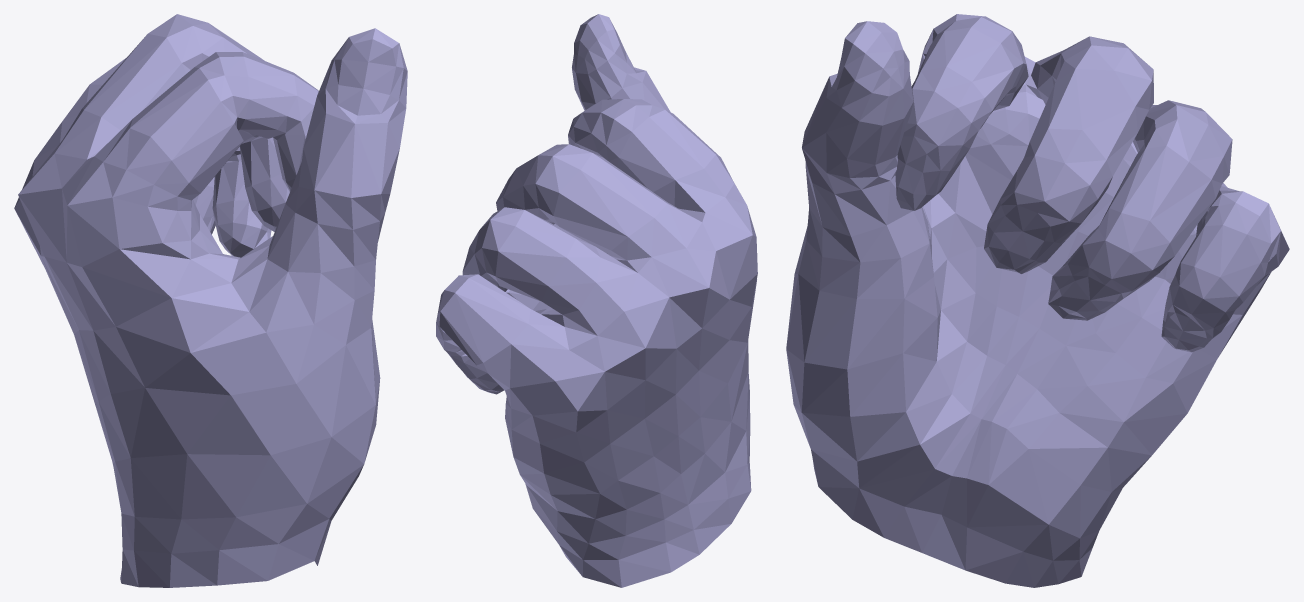
Rendered from frame_0057_source_000057_hand.glb.
3 views of the same model, side by side, from view 1: azimuth 30°, elevation 25°; view 2: azimuth 150°, elevation 25°; view 3: azimuth 270°, elevation 25° (orthographic). The views are drawn at different scales.
Visible parts, largest first — view 1: world; view 2: world; view 3: world.
Part boxes in pixels (x1,y1,x2,y2): world: (14,14,407,587); world: (436,14,757,587); world: (786,14,1289,587).
Bounding box in the file's own units: 0.0613 × 0.1239 × 0.0942.
